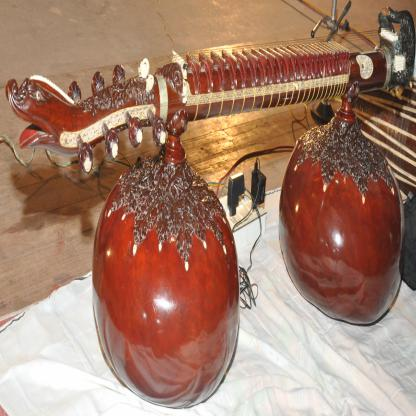Veena: (35, 26, 416, 155)
